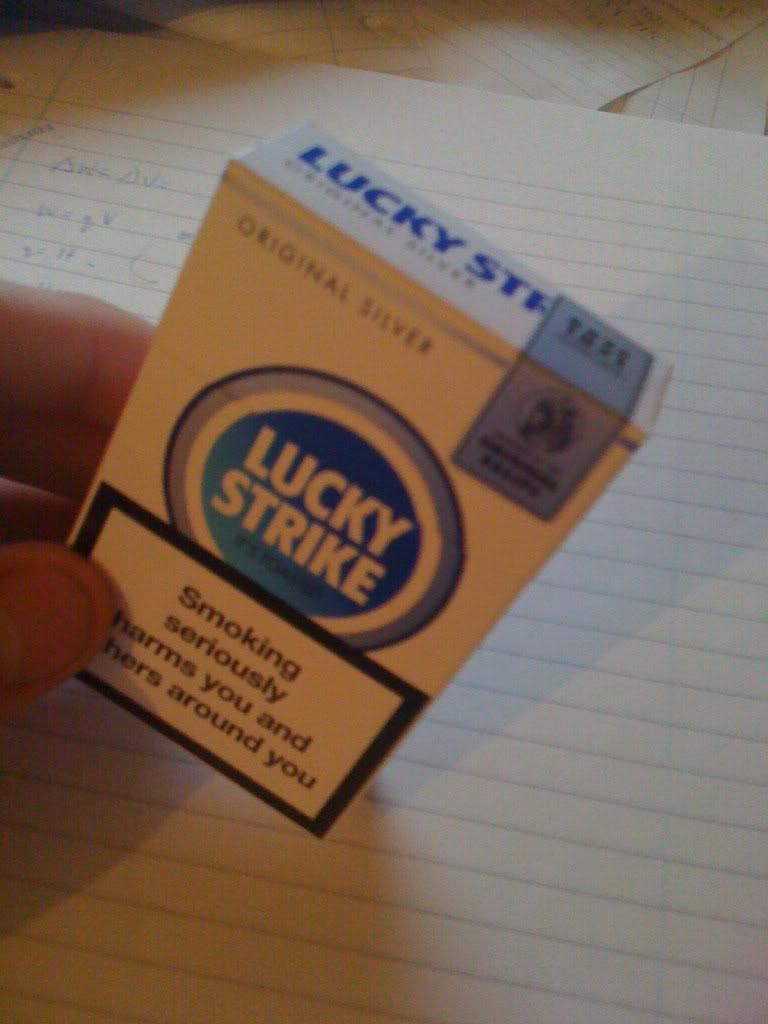lucky_strike_blue: (117, 293, 468, 790)
